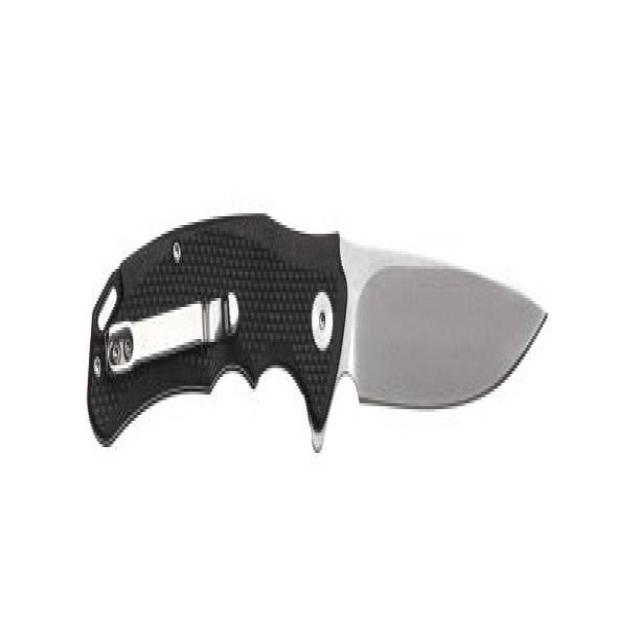knife: (83, 207, 551, 504)
